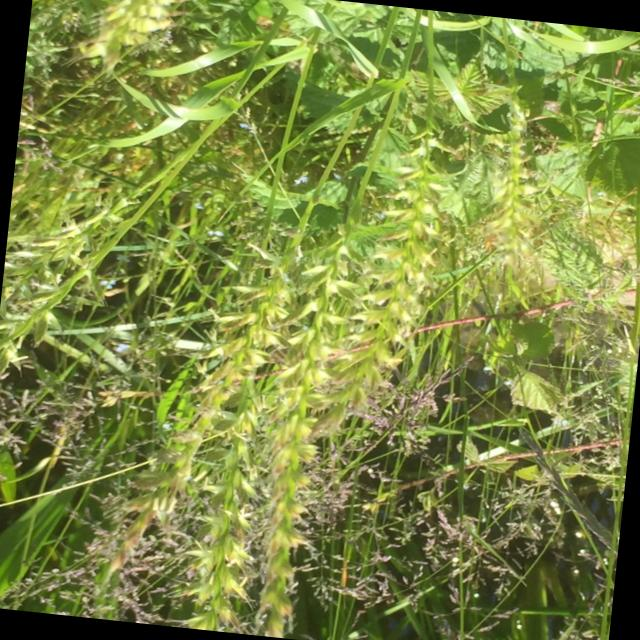Lolium: (253, 60, 404, 640), (326, 99, 443, 437), (462, 64, 554, 300)
